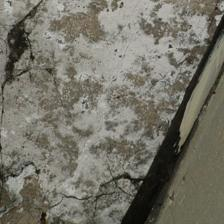Crack: (177, 109, 224, 224), (49, 37, 93, 74), (0, 40, 69, 62), (71, 106, 96, 133)
